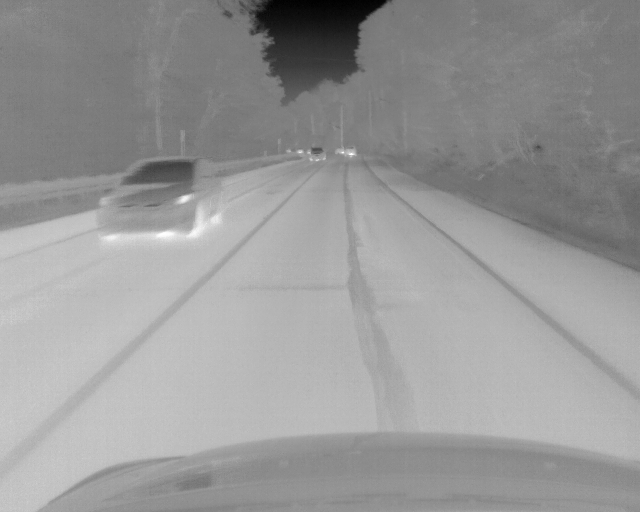car: (97, 157, 224, 240), (308, 146, 326, 163), (345, 145, 356, 157), (334, 147, 345, 155), (296, 149, 305, 155)
